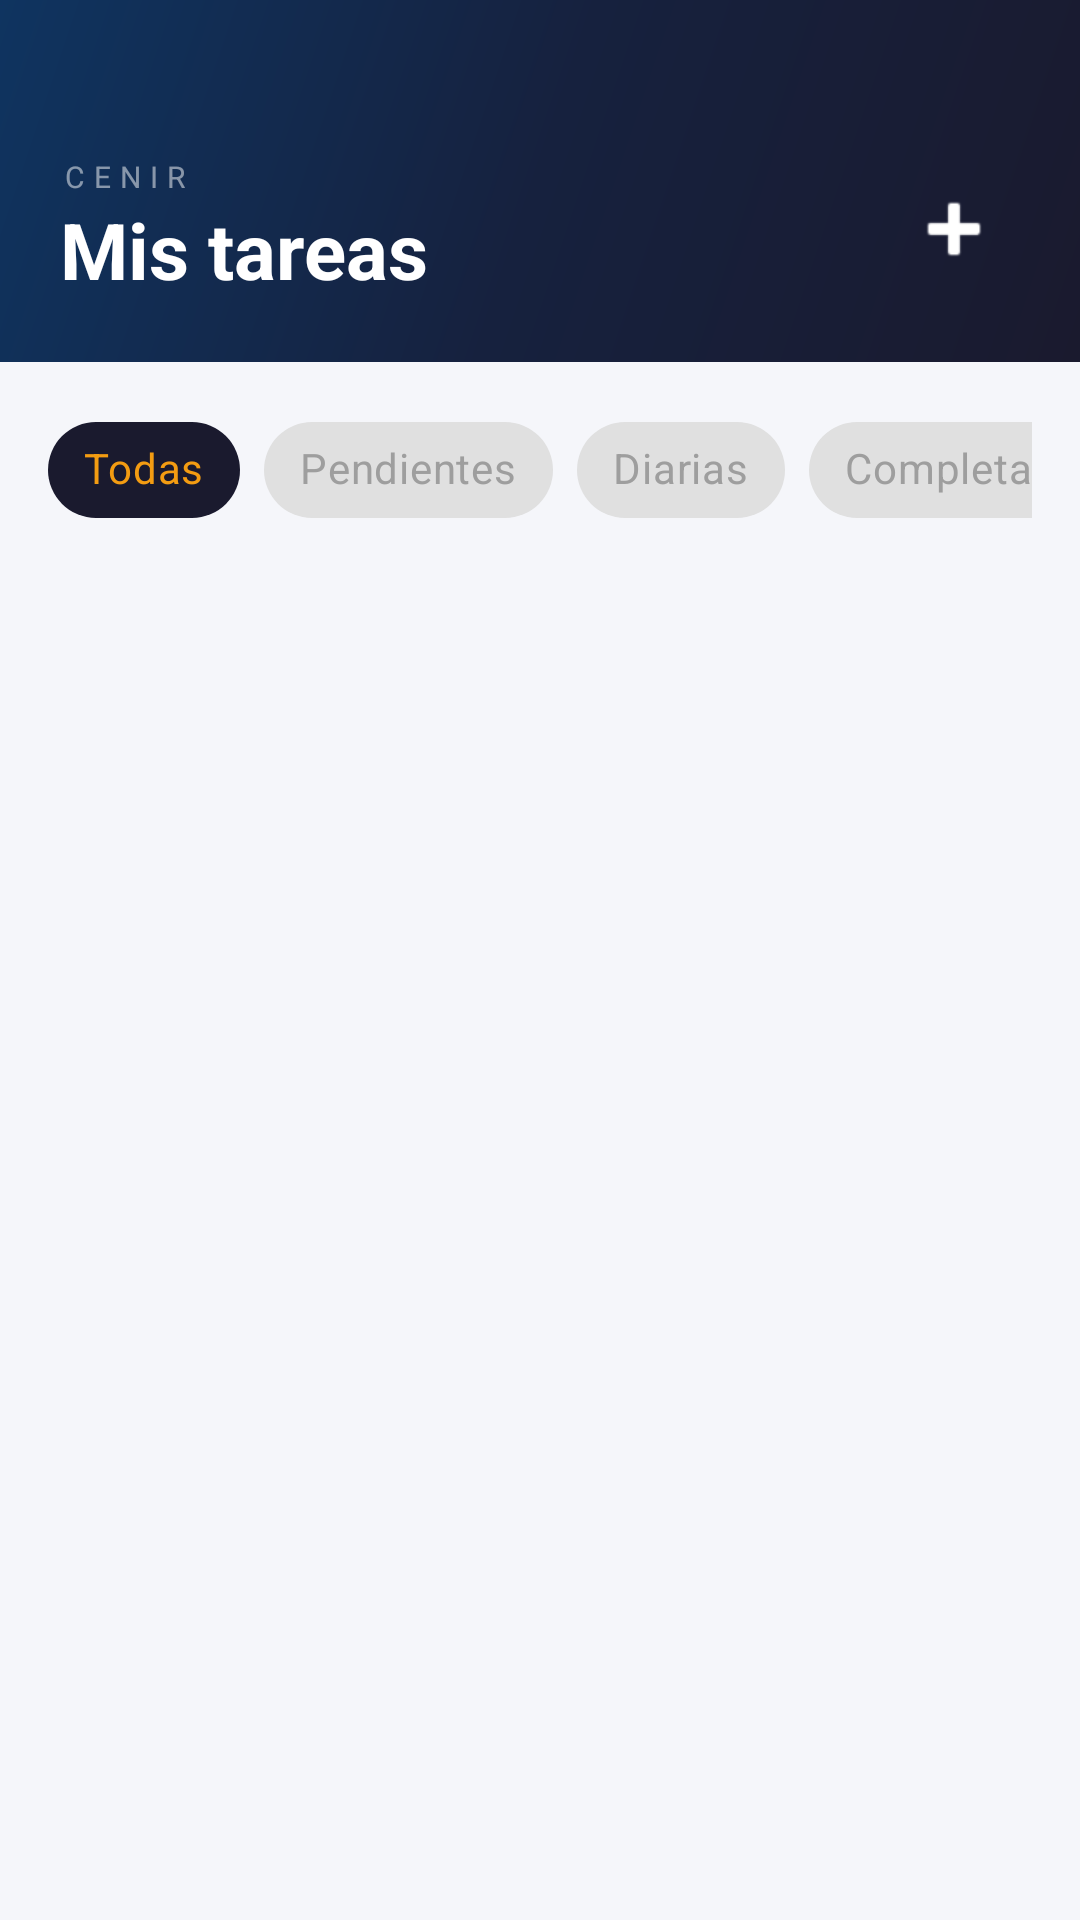

Icons on this 1080x1920 Android screen, each with its box as (x1, y1, x2, y2):
Añadir tarea: (927, 202, 981, 256)
